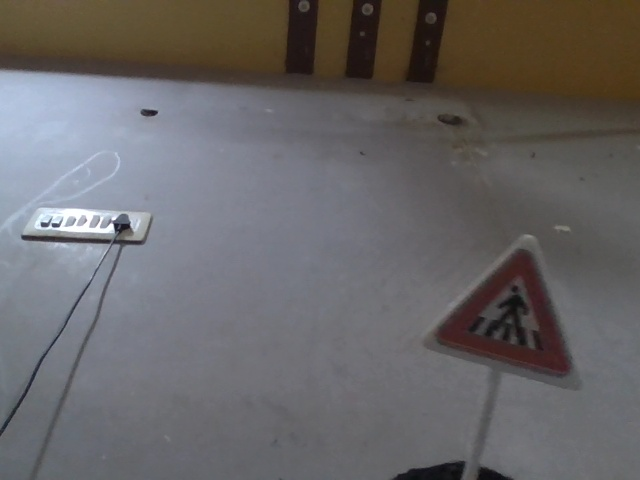crossing: (377, 247, 597, 386)
